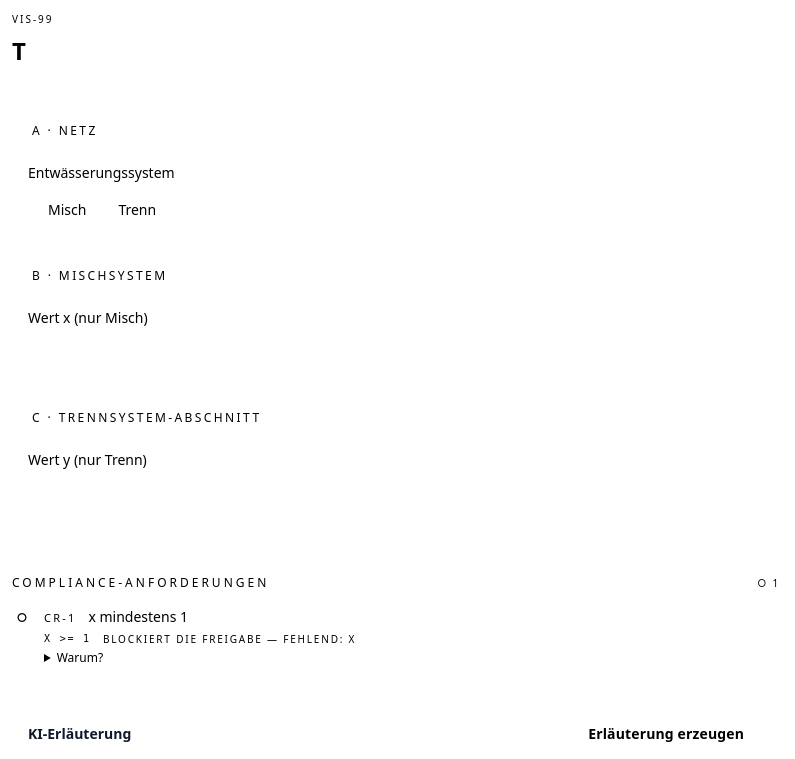
Test case: WorksheetForm visible_when (Plan 2a Task 10) › 3. select misch: x is back, section s3 (and y) are gone; CR-1 is pending again
The image size is (795, 759).
Click the button "Trenn" at (137,210), box top-left (102, 194), bottom-right (172, 226)
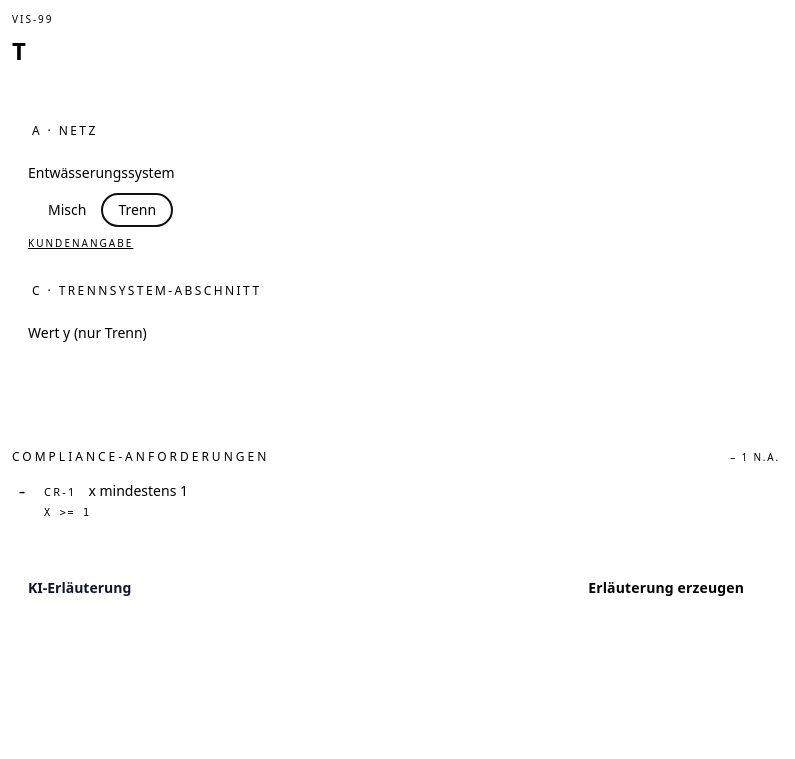
Click the button "Misch" at (67,210), box top-left (32, 194), bottom-right (102, 226)
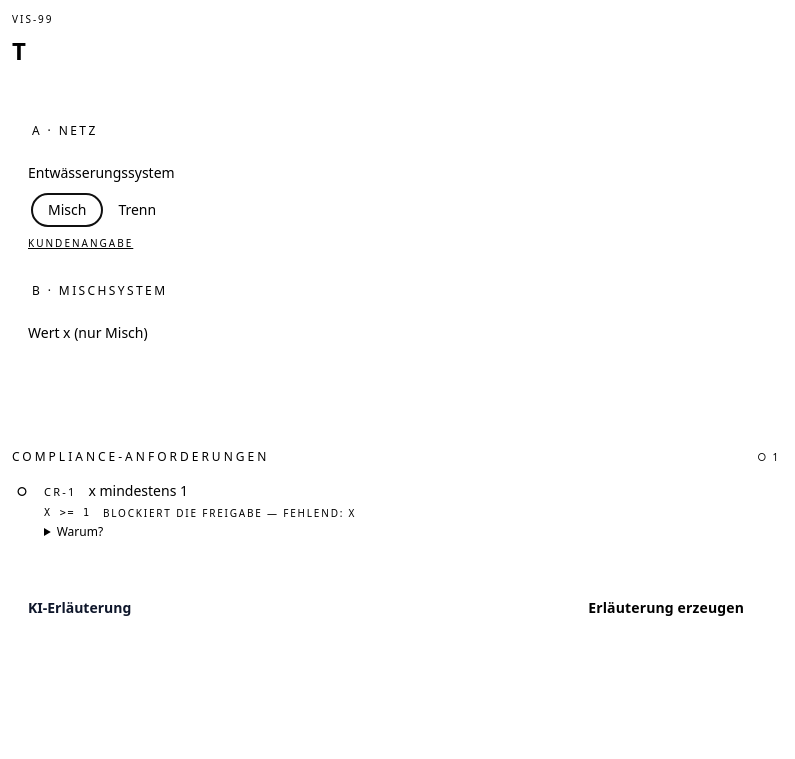
Expected: the text "Trennsystem-Abschnitt" is gone
Expected: the text named "Eingabe erforderlich" is shown, top-left (16, 482), bottom-right (28, 500)
